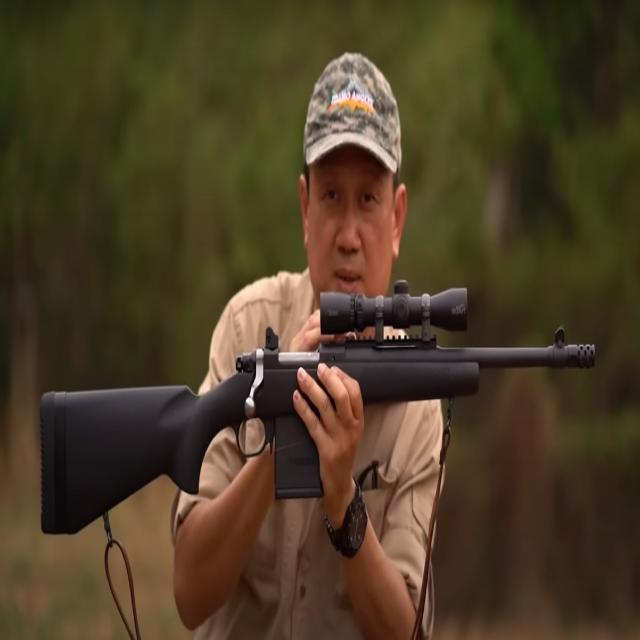rifle: (29, 270, 604, 542)
